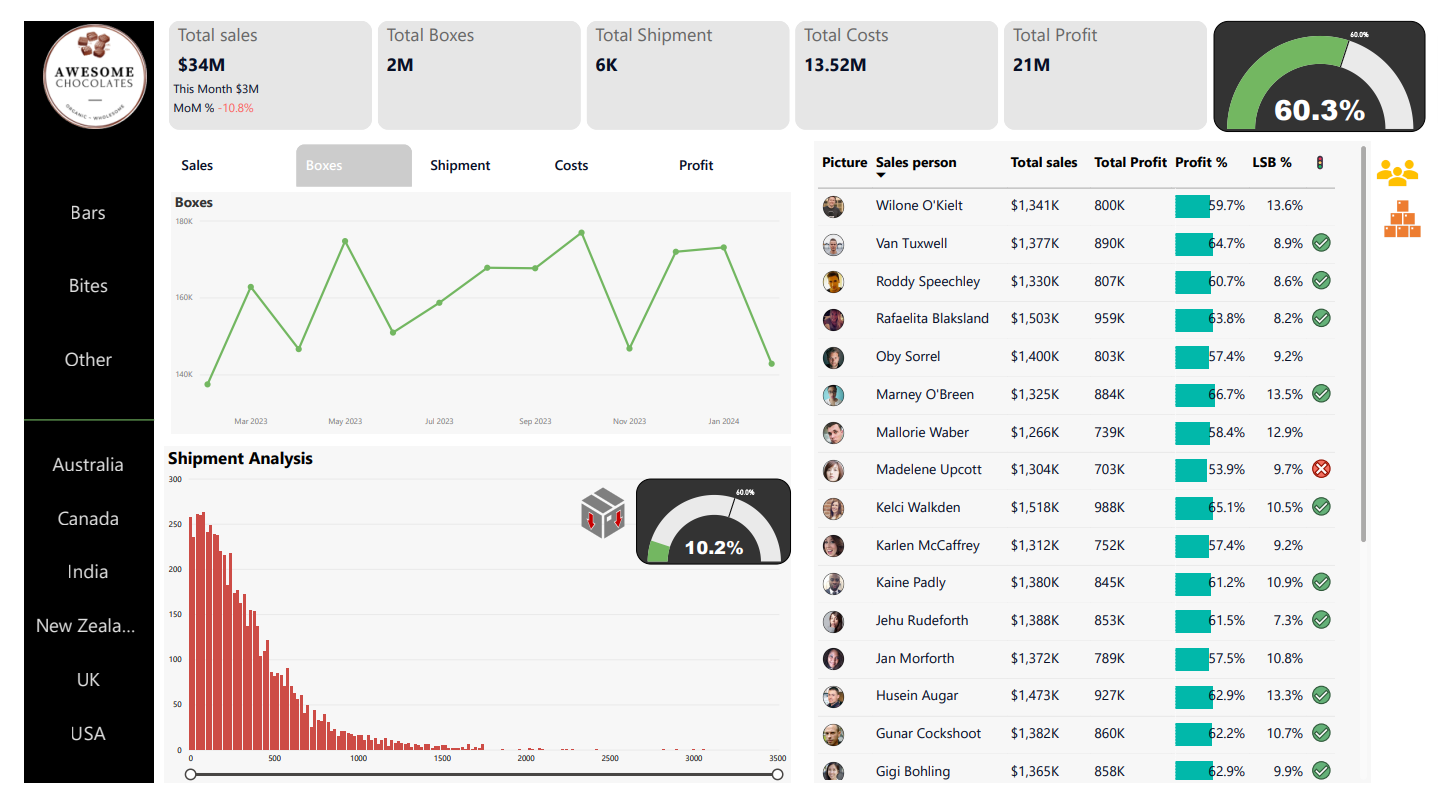

This screenshot's page, from the dashboard's own definition file:
{"tool":"powerbi","page":{"name":"Sales Report ","canvas":[1920,1080],"ordinal":2},"visuals":[{"type":"shape","box":[12.1,22.2,175.3,1029.7],"z":0},{"type":"cardVisual","fields":{"Data":["_measures.Total sales","_measures.Total Boxes","_measures.Total Shipment","_measures.Total Costs","_measures.Total Profit"]},"box":[202,22,1416,152],"z":1000},{"type":"gauge","fields":{"Y":["_measures.Profit %"]},"box":[1618,22,286,150],"z":2000},{"type":"image","box":[12.2,22.2,190,150],"z":3000},{"type":"lineChart","fields":{"Category":["calendar.Start of Month"],"Y":["_measures.Total Boxes"]},"box":[209.9,253.2,837.5,326.8],"z":4000},{"type":"advancedSlicerVisual","fields":{"Values":["Measure Selector .Measure Selector "]},"box":[205.6,184,841.9,67.1],"z":5000},{"type":"columnChart","title":"Shipment Analysis","fields":{"Category":["shipments.Boxes (bins)"],"Y":["_measures.Total Shipment"]},"box":[201.3,597.3,846.2,454.5],"z":6000},{"type":"gauge","fields":{"Y":["_measures.LSB %"]},"box":[837.5,640.6,209.9,116.9],"z":7000},{"type":"image","box":[709.8,640.6,166.6,93.1],"z":8000},{"type":"tableEx","title":"People Table","fields":{"Values":["people.Picture","people.Sales person","_measures.Total sales","_measures.Total Profit","_measures.Profit %","_measures.LSB %","_measures.Profit Target Indicator"]},"box":[1077.5,185,752.5,867.5],"z":9000},{"type":"image","title":"Product ","box":[1825,252.5,95,72.5],"z":11000},{"type":"image","box":[1830,185,72.5,85],"z":12000},{"type":"listSlicer","fields":{"Values":["products.Category"]},"box":[20.2,227.4,155.9,304.5],"z":12001},{"type":"listSlicer","fields":{"Values":["locations.Geo"]},"box":[20.2,579.6,155.9,447.6],"z":12002},{"type":"shape","box":[11,531.9,176.1,58.7],"z":12003}]}

Visuals, with their boxes in screenshot pixels (x1, y1, x2, y2), scaled from the page's 1920x1080 canvas onto the 1440x812 screenshot:
shape: box(9, 17, 141, 791)
cardVisual - _measures.Total sales x _measures.Total Boxes: box(152, 17, 1214, 131)
gauge - _measures.Profit %: box(1214, 17, 1428, 129)
image: box(9, 17, 152, 129)
lineChart - calendar.Start of Month x _measures.Total Boxes: box(157, 190, 786, 436)
advancedSlicerVisual - Measure Selector .Measure Selector : box(154, 138, 786, 189)
"Shipment Analysis" columnChart: box(151, 449, 786, 791)
gauge - _measures.LSB %: box(628, 482, 786, 570)
image: box(532, 482, 657, 552)
"People Table" tableEx: box(808, 139, 1372, 791)
"Product " image: box(1369, 190, 1439, 244)
image: box(1372, 139, 1427, 203)
listSlicer - products.Category: box(15, 171, 132, 400)
listSlicer - locations.Geo: box(15, 436, 132, 772)
shape: box(8, 400, 140, 444)
